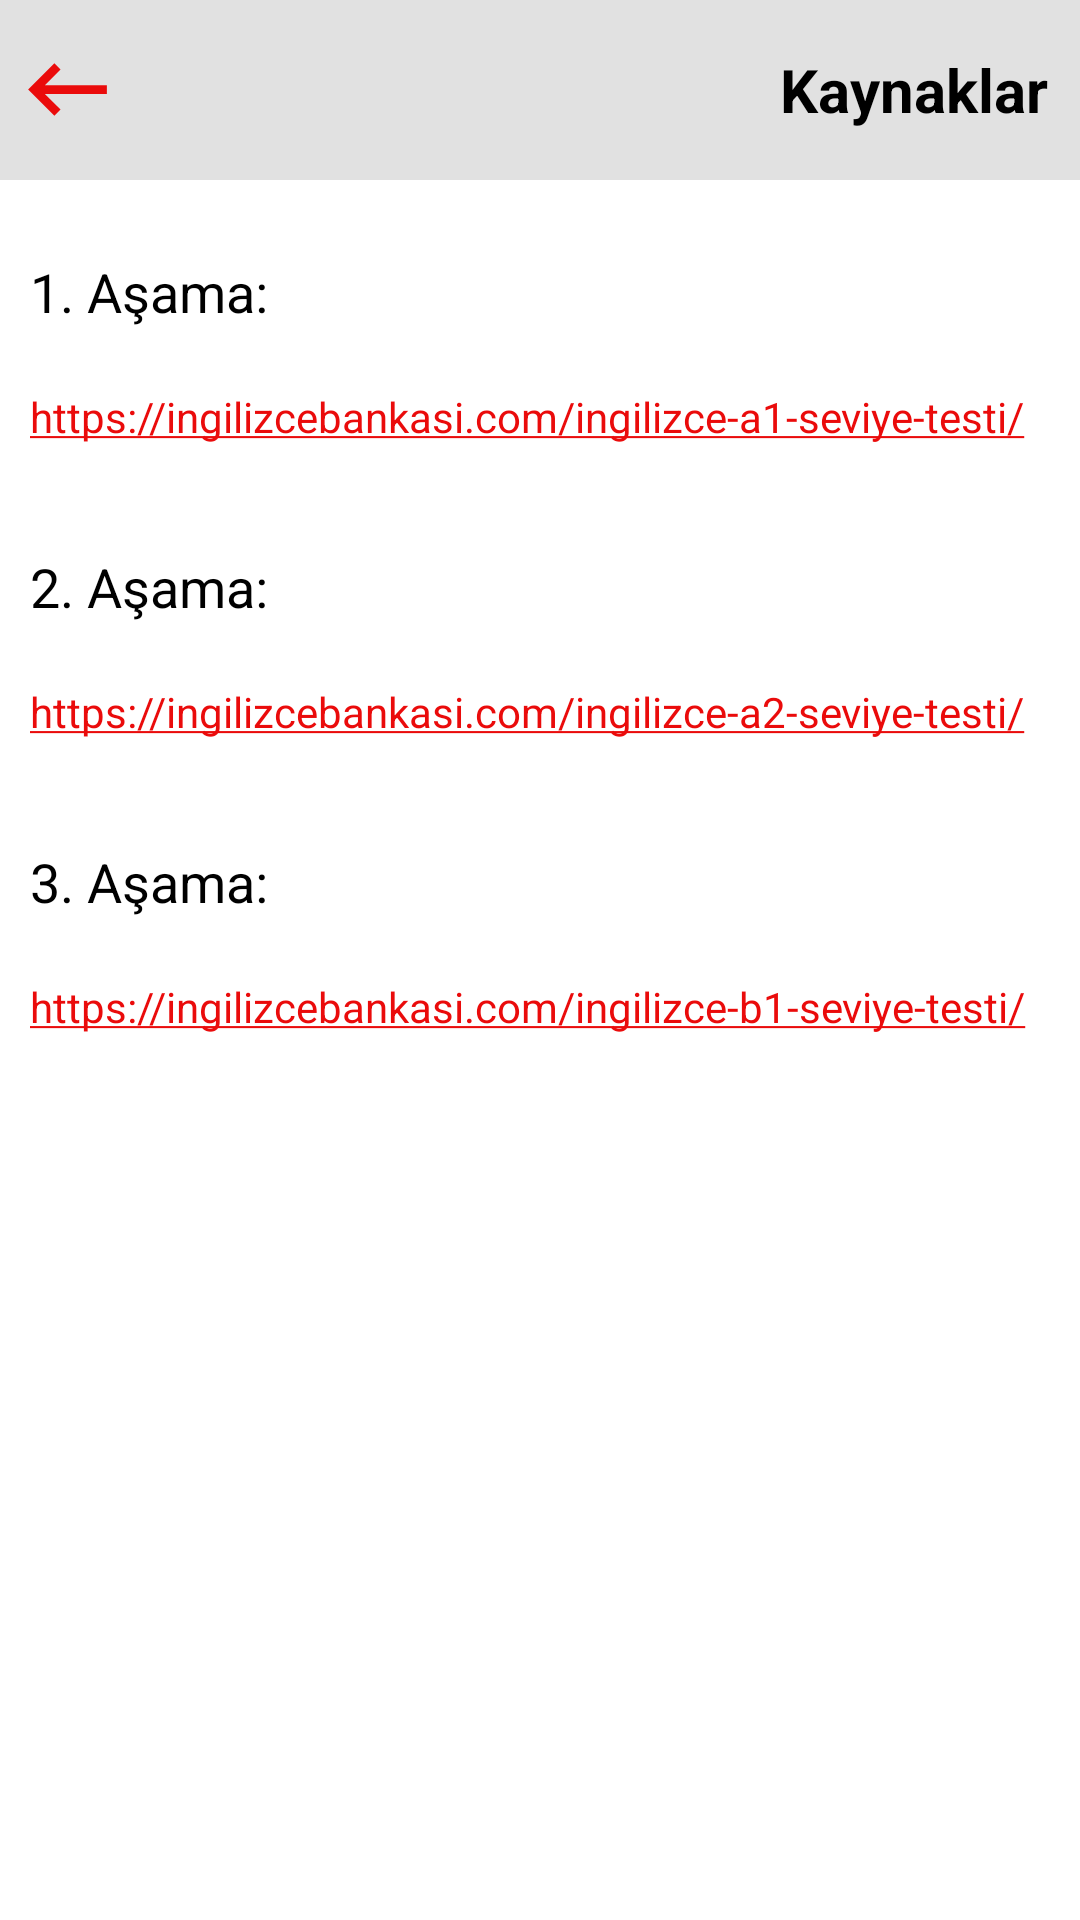

Where to tap for icons on this 1080px x 1920px app screen, as (x,y):
back: (67,89)
